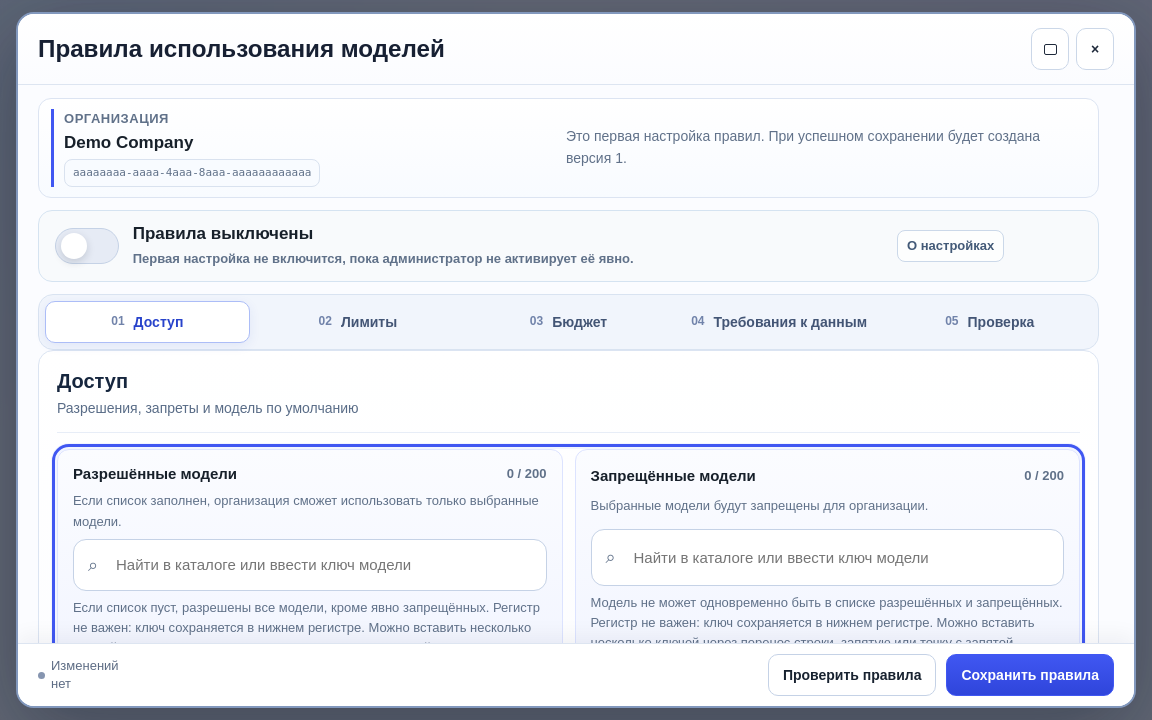
ModelPolicyModal production safety › warns before intentionally enabling fail-closed policy without runtime catalog match
Click the checkbox labelled "Правила выключены": (87, 246) [55, 224, 634, 266]
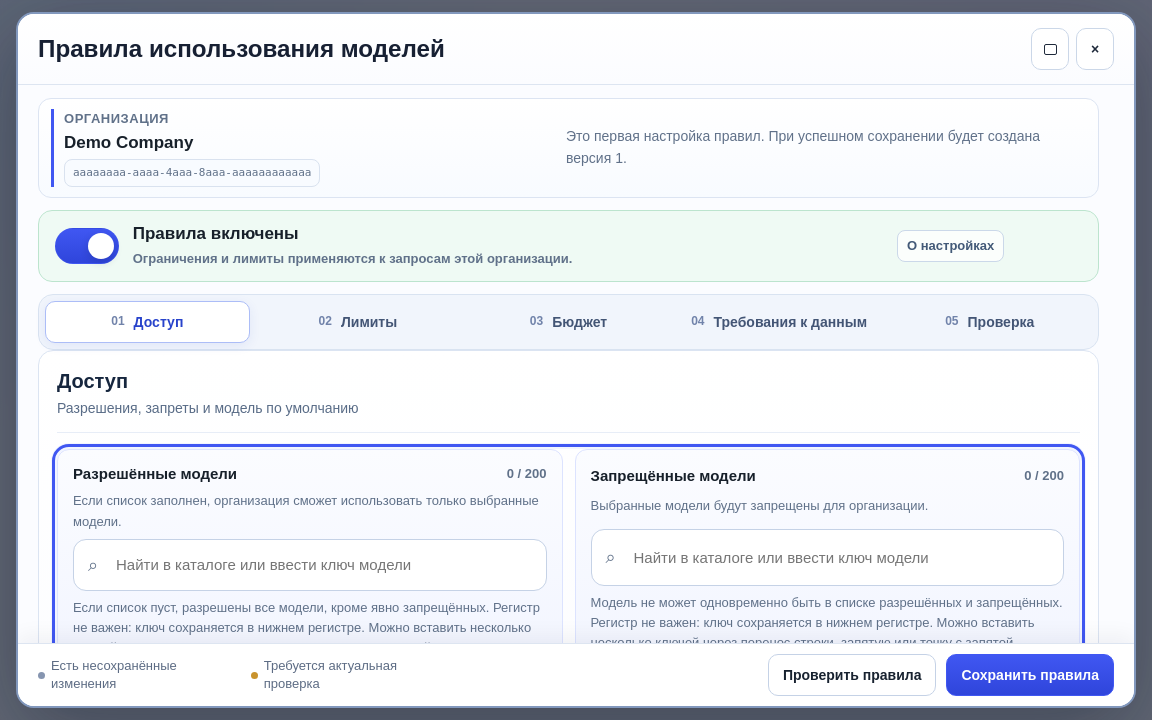
Click the tab "05 Проверка": (990, 322) [887, 301, 1092, 343]
(page scrolled)
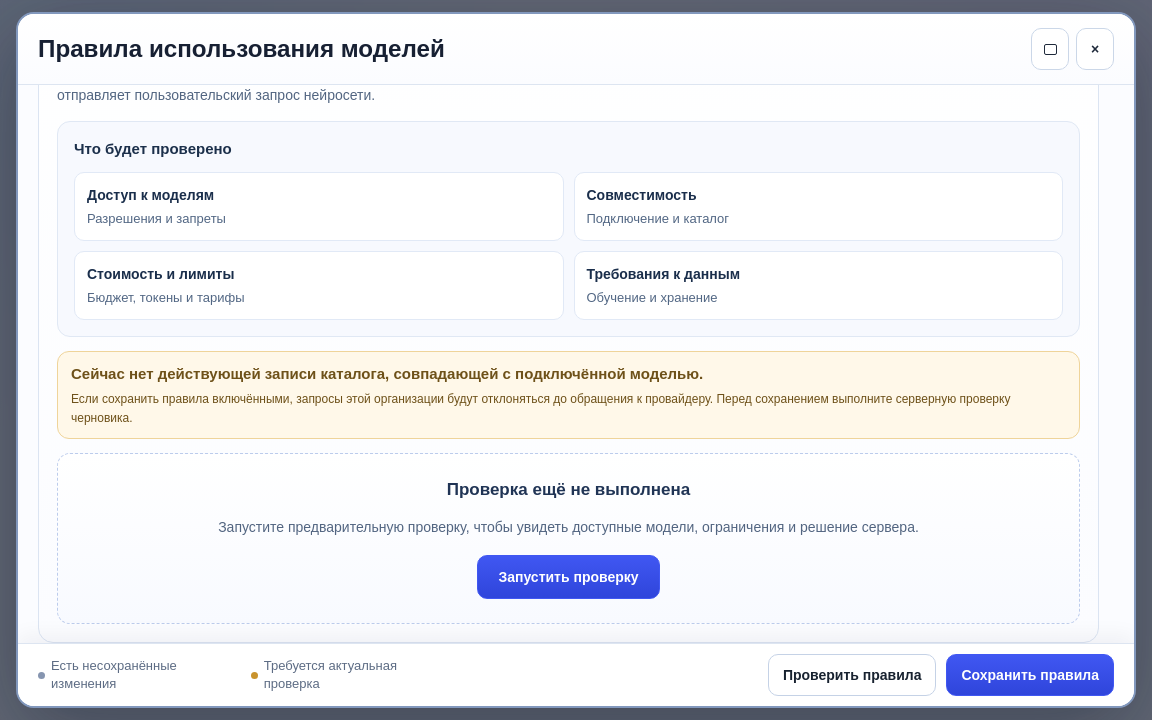
Expected: the 1st message shows "нет действующей записи каталога", [71, 365, 703, 382]
